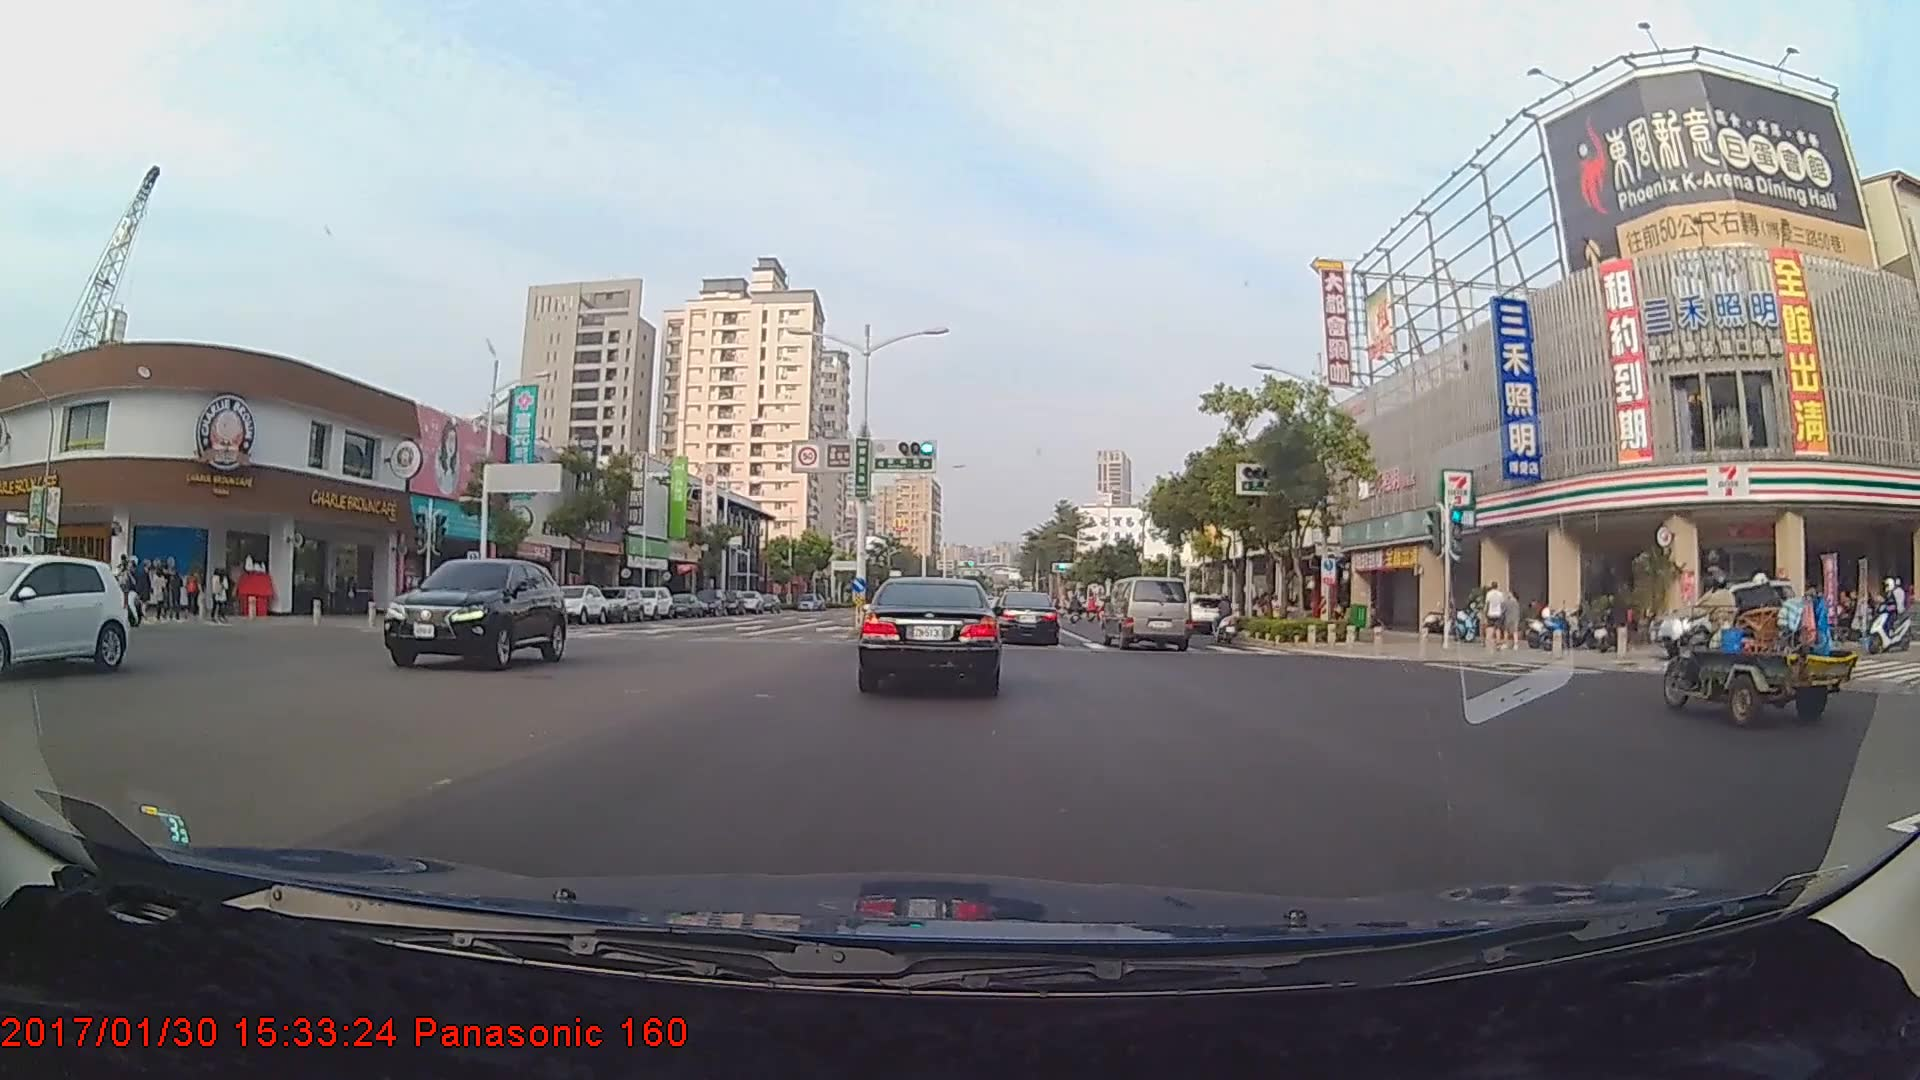pedestrian: (1484, 581, 1509, 649), (1502, 591, 1524, 653), (400, 572, 420, 621)
rider: (87, 549, 150, 631), (1861, 572, 1915, 656), (1213, 593, 1248, 650)
vehicle: (388, 556, 568, 669), (859, 574, 1001, 694), (1645, 575, 1803, 665), (22, 553, 128, 671), (1104, 576, 1190, 652), (992, 591, 1060, 646), (541, 583, 606, 623), (596, 580, 646, 619), (625, 587, 673, 622), (671, 592, 705, 619)
